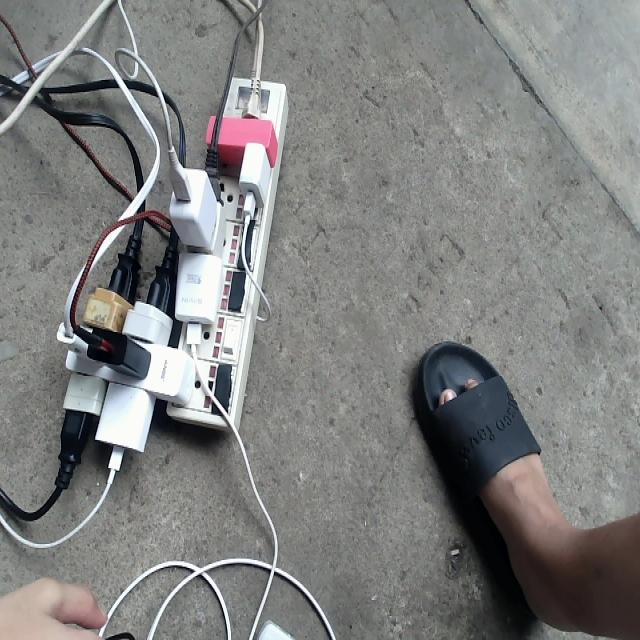-: (53, 75, 289, 489)
